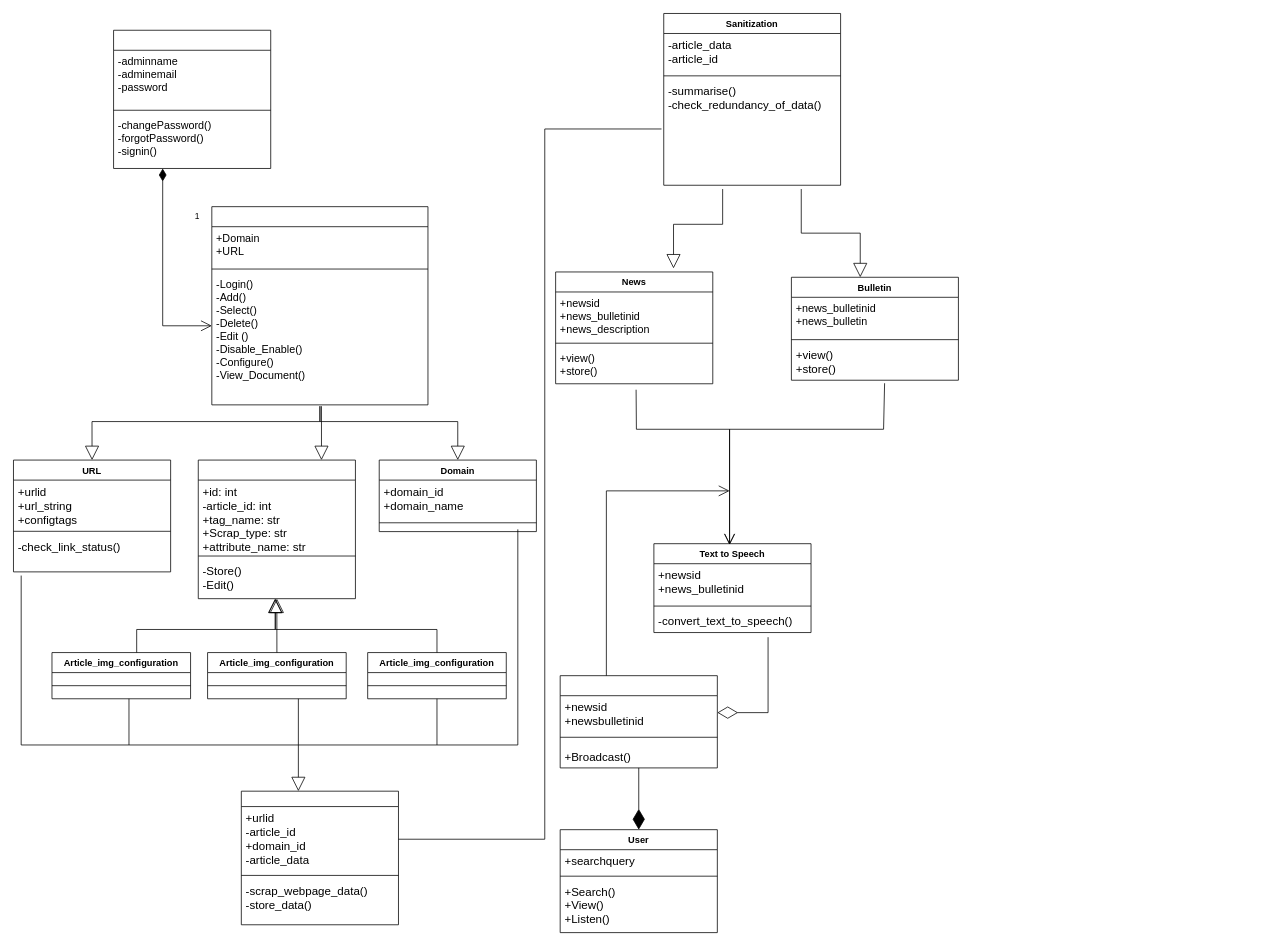
Some shapes in this 1267 by 949 pixel diagram are drawn without their labels. The box of each missing label's shape, as (x1, y1, x2, y2) in pixels:
Admin: (211, 206, 428, 405)
Config: (198, 459, 355, 599)
Login: (113, 29, 271, 168)
NewsChannel: (559, 675, 717, 768)
Scrapper: (241, 790, 398, 925)
